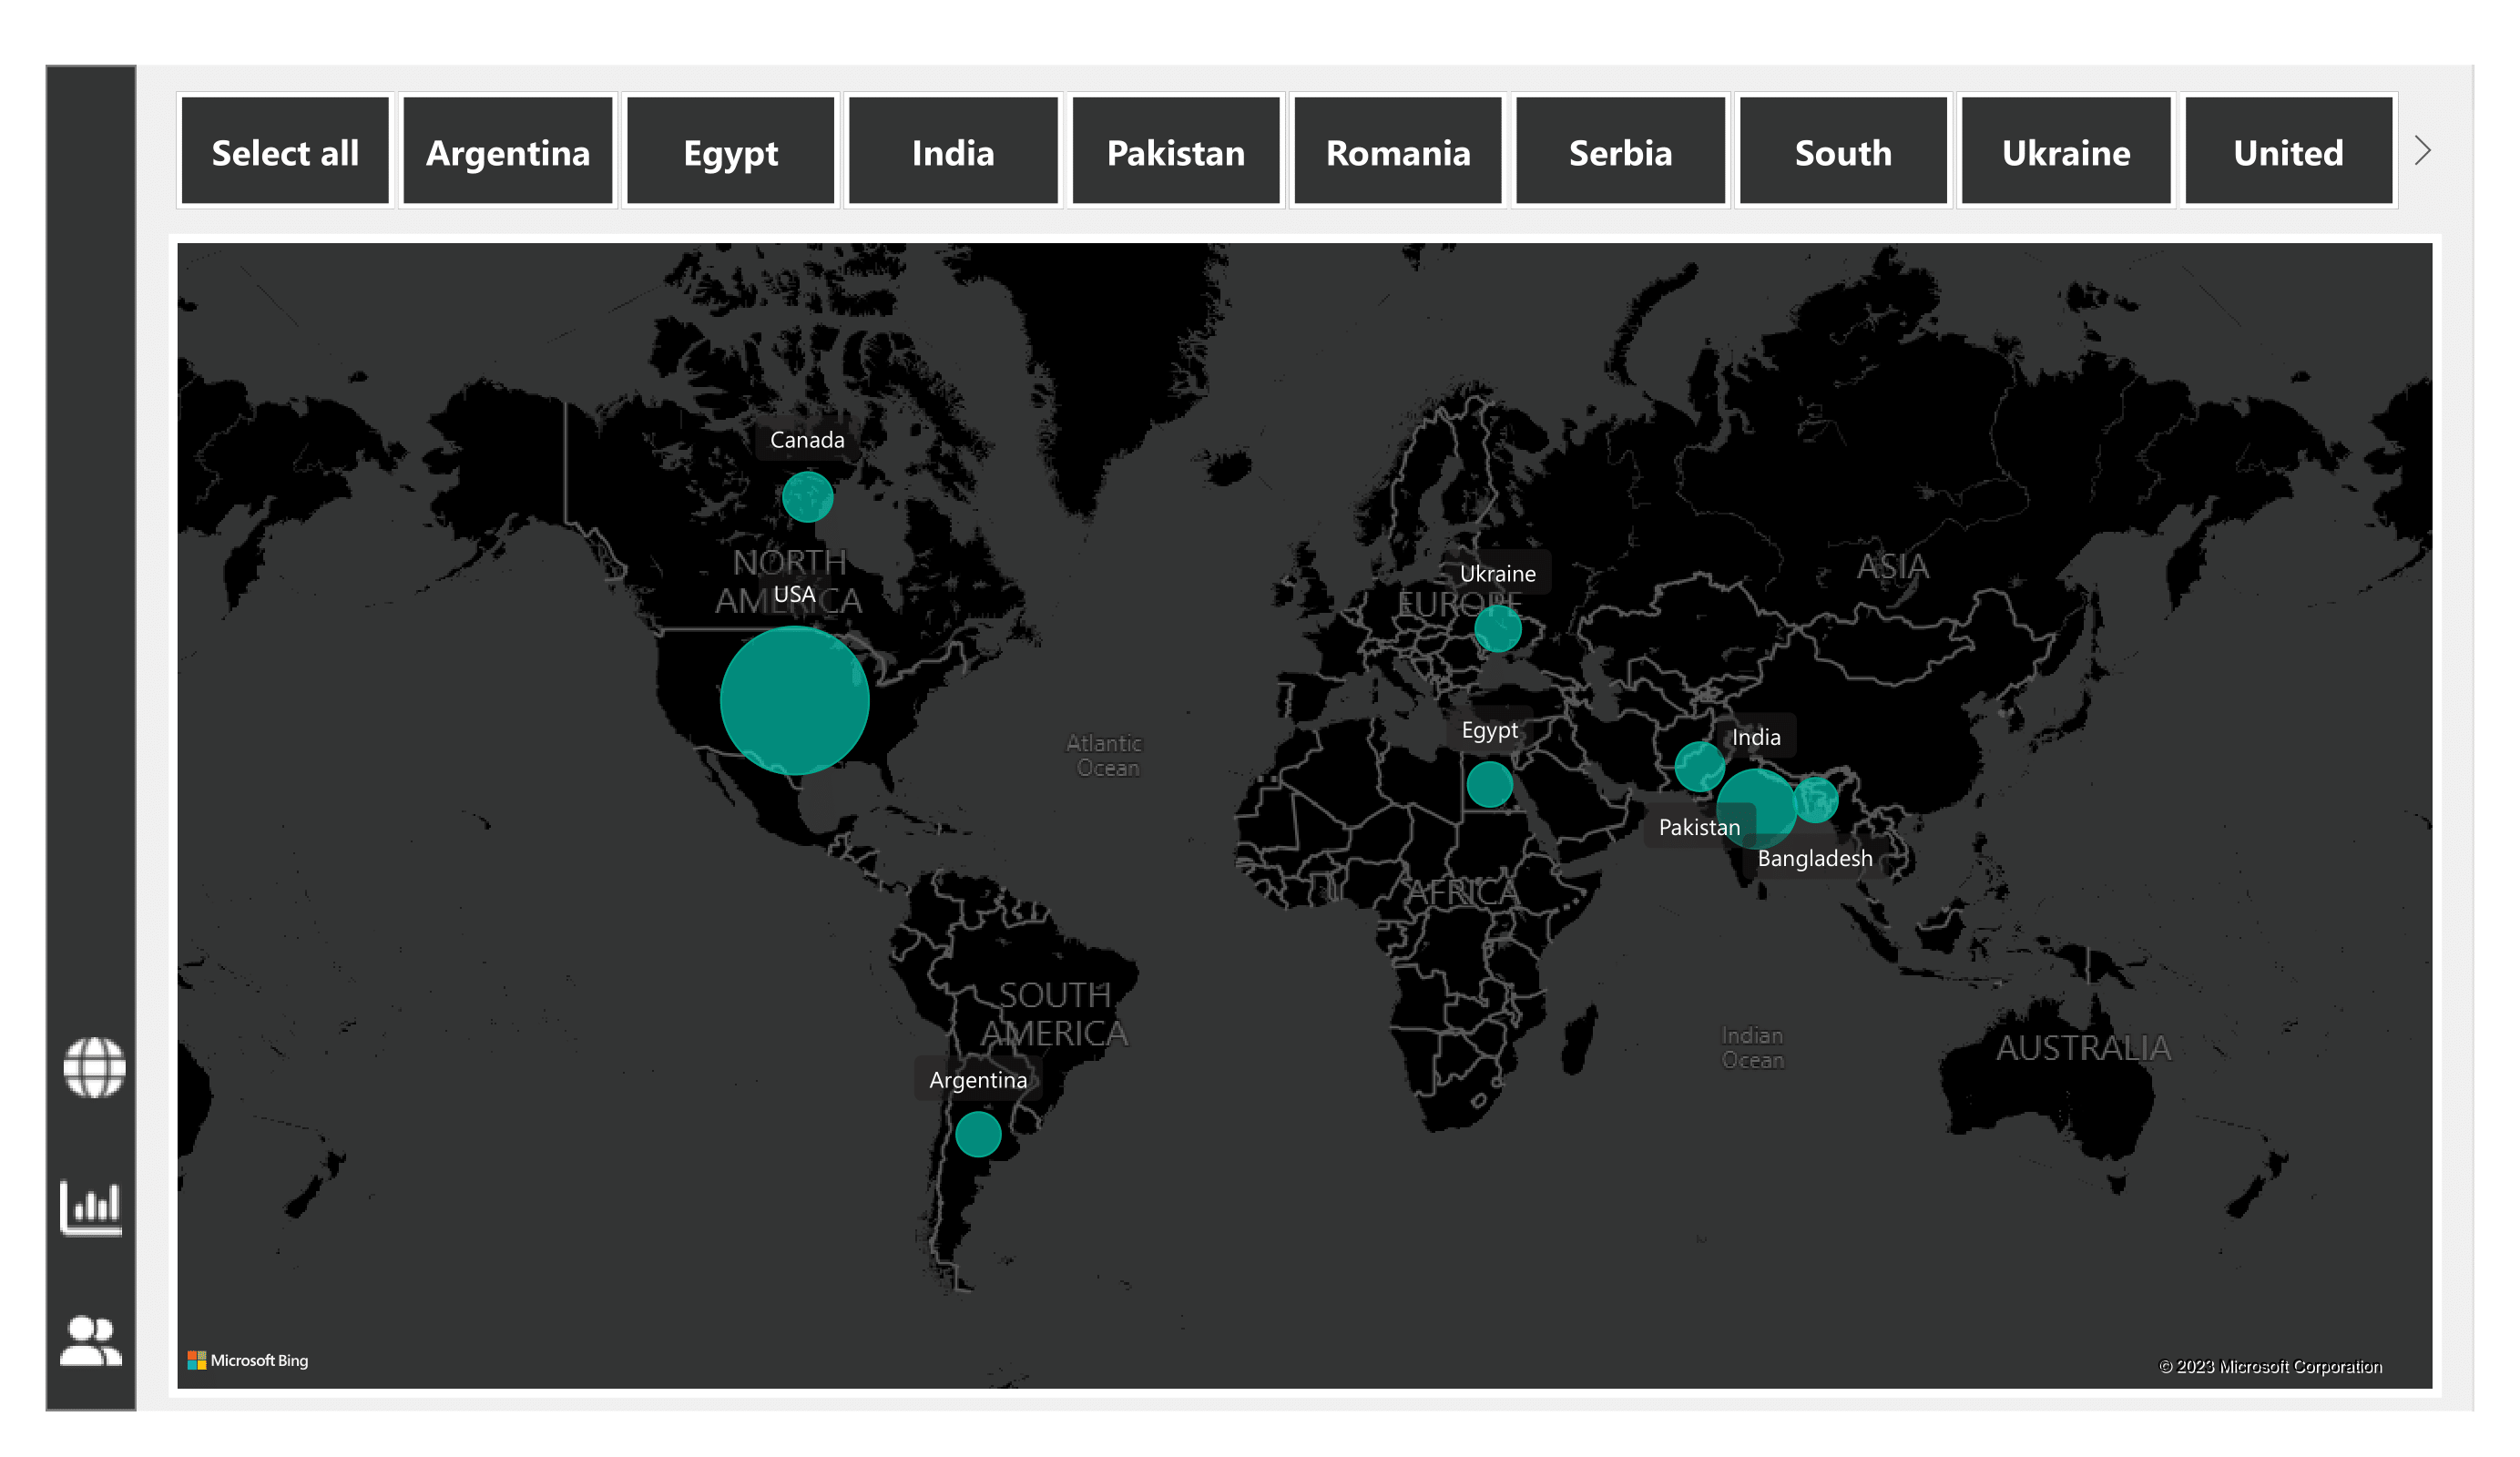

The dashboard page shown, as its layout file describes it:
{"tool":"powerbi","page":{"name":"Map","canvas":[1280,720],"ordinal":2},"visuals":[{"type":"shape","box":[0,10,1280,710],"z":0},{"type":"map","fields":{"Category":["data_to_analyse (2).country"],"Size":["Sum(data_to_analyse (2).all_time_earnings)"]},"box":[64.7,98.7,1199.3,614],"z":1000},{"type":"shape","box":[0,10,48.3,710],"z":2000},{"type":"actionButton","box":[4.2,663.3,53.3,40],"z":3000},{"type":"actionButton","box":[5.6,518.9,53.3,40],"z":4000},{"type":"actionButton","box":[4.4,593.3,53.3,40],"z":5000},{"type":"slicer","fields":{"Values":["data_to_analyse (2).country"]},"box":[43.3,16.7,1221.7,76.7],"z":6000}]}

Visuals, with their boxes on the page's 1280x720 design canvas (x1, y1, x2, y2). These are canvas units, not pixel positions in the 2520x1457 screenshot, which may show the page scaled, cropped or inside an application window:
shape: (left=0, top=10, right=1280, bottom=720)
map - data_to_analyse (2).country x Sum(data_to_analyse (2).all_time_earnings): (left=65, top=99, right=1264, bottom=713)
shape: (left=0, top=10, right=48, bottom=720)
actionButton: (left=4, top=663, right=58, bottom=703)
actionButton: (left=6, top=519, right=59, bottom=559)
actionButton: (left=4, top=593, right=58, bottom=633)
slicer - data_to_analyse (2).country: (left=43, top=17, right=1265, bottom=93)
